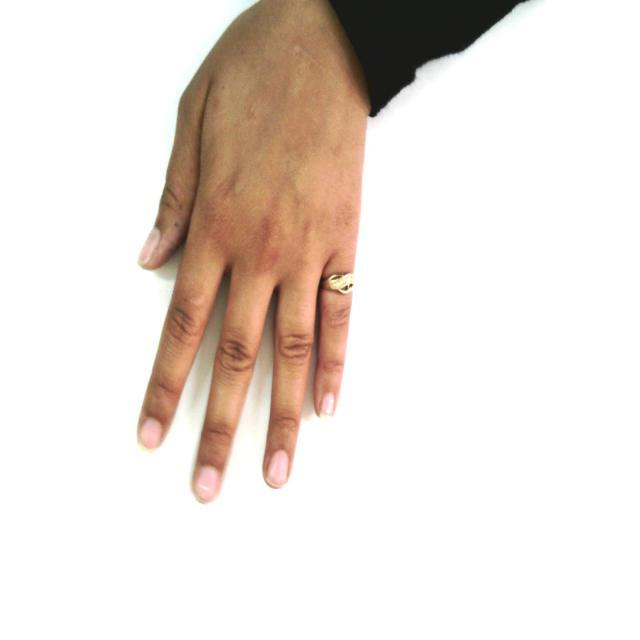Fingernail: (195, 465, 219, 500), (268, 450, 288, 485), (140, 419, 162, 448), (139, 230, 158, 261), (320, 393, 335, 421)
